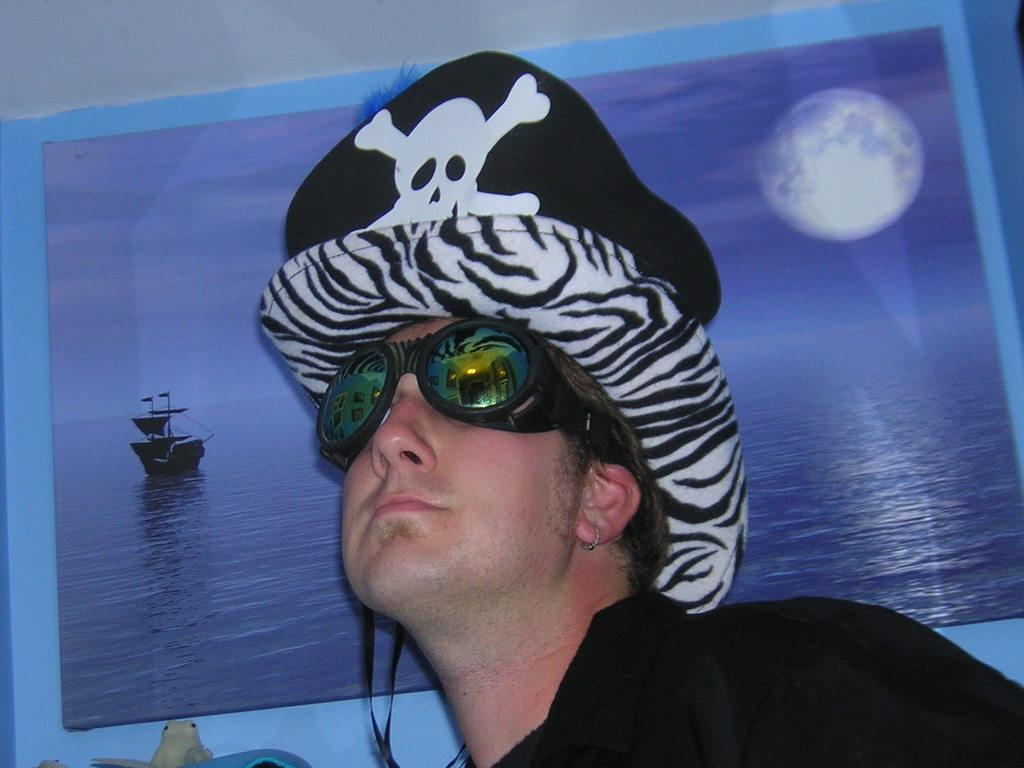Hat: (260, 45, 750, 613)
